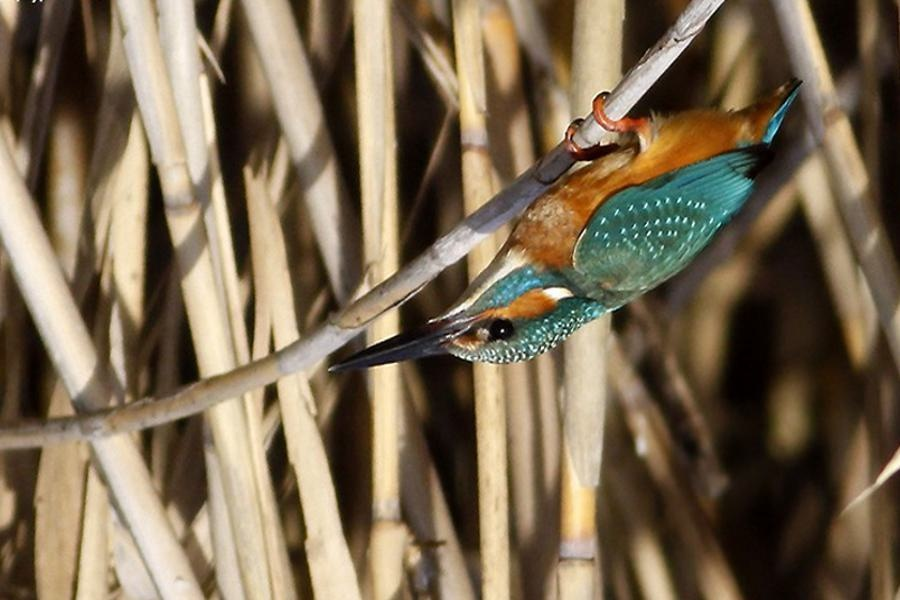kingfisher: (325, 72, 815, 396)
